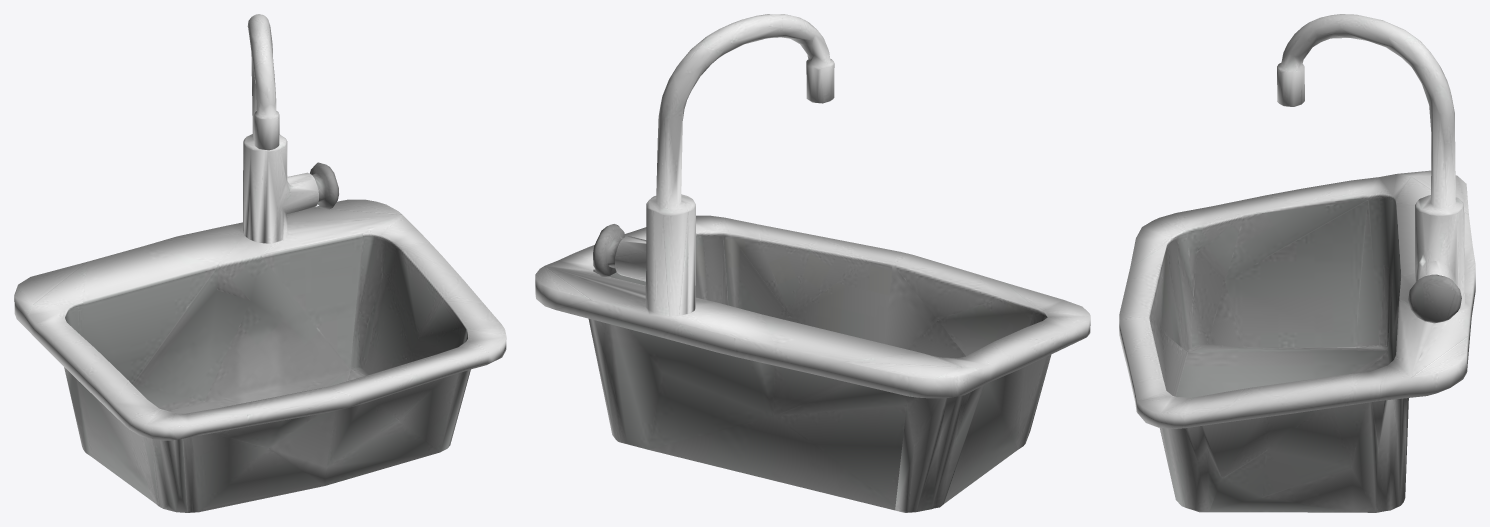
File: sink.glb
The picture shows the model from 3 angles, left to right: view 1: azimuth 30°, elevation 25°; view 2: azimuth 150°, elevation 25°; view 3: azimuth 270°, elevation 25°; orthographic projection. The views are drawn at different scales.
Size of the model in its own units: 1.91 by 1.89 by 1.38.
1 material, 1 textured.
